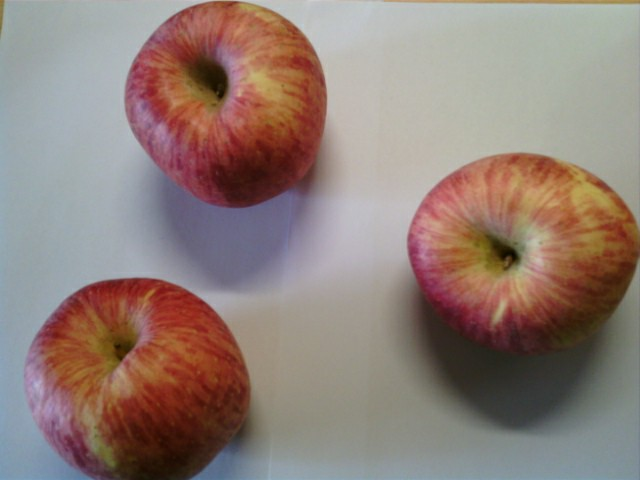normal_apple: (407, 151, 640, 358), (24, 276, 252, 480), (121, 1, 328, 209)
